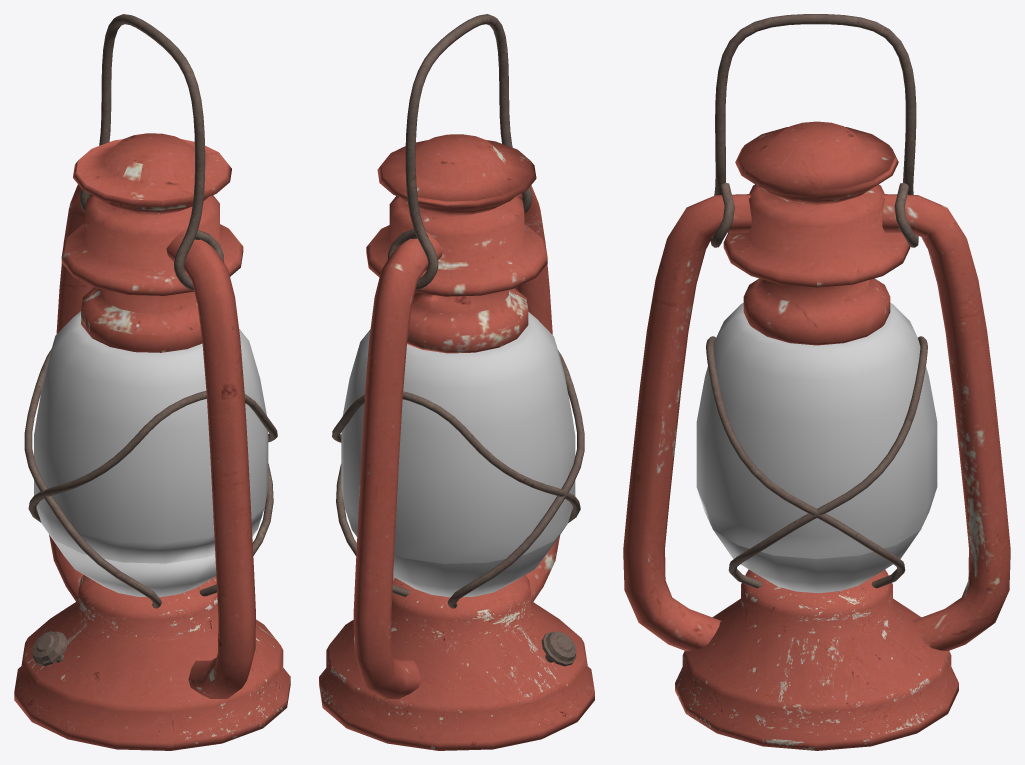
The model's file is Candil.obj.
3 views of the same model, side by side, from view 1: azimuth 30°, elevation 25°; view 2: azimuth 150°, elevation 25°; view 3: azimuth 270°, elevation 25° (orthographic).
Parts seen in each view (by area): view 1: parte_medio_Plane.003, parte_abajo_Plane.002, parte_arriba_Plane, hadles_NurbsPath, NurbsPath_NurbsPath.002, agarre_NurbsPath.001, interruptor_Plane.005; view 2: parte_medio_Plane.003, parte_abajo_Plane.002, parte_arriba_Plane, hadles_NurbsPath, NurbsPath_NurbsPath.002, agarre_NurbsPath.001, interruptor_Plane.005; view 3: parte_medio_Plane.003, hadles_NurbsPath, parte_abajo_Plane.002, parte_arriba_Plane, agarre_NurbsPath.001, NurbsPath_NurbsPath.002.
Boxes of the visible parts, x1,y1,x2,y2 form: parte_medio_Plane.003: (34, 311, 268, 597); parte_abajo_Plane.002: (14, 575, 290, 750); parte_arriba_Plane: (61, 133, 243, 352); hadles_NurbsPath: (49, 184, 255, 698); NurbsPath_NurbsPath.002: (24, 349, 277, 608); agarre_NurbsPath.001: (80, 14, 224, 290); interruptor_Plane.005: (32, 631, 67, 666); parte_medio_Plane.003: (341, 312, 575, 597); parte_abajo_Plane.002: (319, 575, 594, 750); parte_arriba_Plane: (366, 134, 547, 353); hadles_NurbsPath: (353, 185, 560, 699); NurbsPath_NurbsPath.002: (332, 350, 584, 608); agarre_NurbsPath.001: (387, 14, 532, 290); interruptor_Plane.005: (541, 631, 576, 666); parte_medio_Plane.003: (696, 303, 937, 593); hadles_NurbsPath: (623, 194, 1010, 650); parte_abajo_Plane.002: (675, 569, 958, 750); parte_arriba_Plane: (723, 121, 910, 345); agarre_NurbsPath.001: (710, 14, 918, 247); NurbsPath_NurbsPath.002: (706, 336, 927, 588).
Size of the model in its own units: 0.0823 by 0.2166 by 0.1124.
